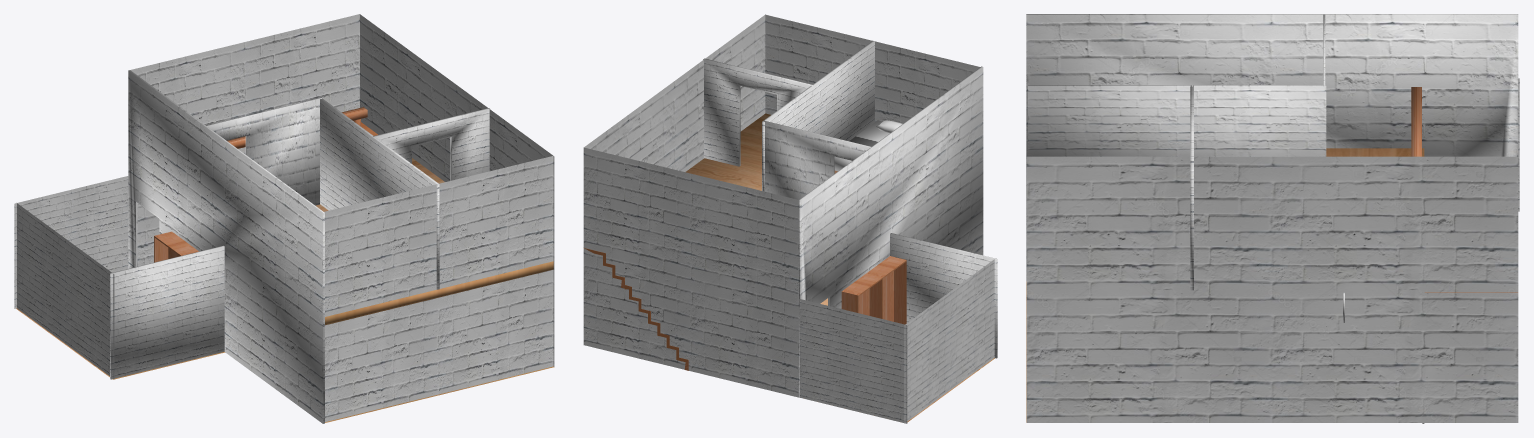
Rendered from house.glb.
3 views of the same model, side by side, from view 1: azimuth 30°, elevation 25°; view 2: azimuth 150°, elevation 25°; view 3: azimuth 270°, elevation 25° (orthographic). The views are drawn at different scales.
Visible parts, largest first — view 1: Plane.001, Plane.002, Plane.003, Plane.016, Plane.004, Plane.017, Plane.010, Plane.015, Plane.013, Plane.009, Plane.005, Cube.009; view 2: Plane.003, Plane.002, Plane.015, Plane.001, Plane.004, Plane.017, Plane.010, Plane.009, Plane.013, Plane.016, Plane.005, Cube.008 (+3 smaller); view 3: Plane.004, Plane.002, Plane.010, Plane.009, Plane.005, Cube.001.
Boxes of the visible parts, x1,y1,x2,y2 form: Plane.001: (324,156,553,421); Plane.002: (128,70,324,423); Plane.003: (130,14,359,266); Plane.016: (110,245,224,379); Plane.004: (360,14,554,366); Plane.017: (17,203,114,379); Plane.010: (320,98,439,289); Plane.015: (14,176,128,308); Plane.013: (206,97,321,205); Plane.009: (373,108,490,180); Plane.005: (316,158,553,325); Cube.009: (154,231,197,262); Plane.003: (583,147,798,397); Plane.002: (799,66,983,397); Plane.015: (799,299,907,423); Plane.001: (765,14,980,123); Plane.004: (584,14,765,171); Plane.017: (904,258,996,423); Plane.010: (762,41,874,191); Plane.009: (703,58,813,166); Plane.013: (763,120,870,199); Plane.016: (890,233,997,358); Plane.005: (685,113,770,190); Cube.008: (866,256,906,324); Plane.004: (1026,156,1518,422); Plane.002: (1026,14,1518,280); Plane.010: (1028,85,1326,156); Plane.009: (1190,85,1193,290); Plane.005: (1326,148,1424,156); Cube.001: (1411,87,1421,156).
Bounding box in the file's own units: 45.84 × 26.81 × 44.77.
Materials: 16 (10 with a texture image).
